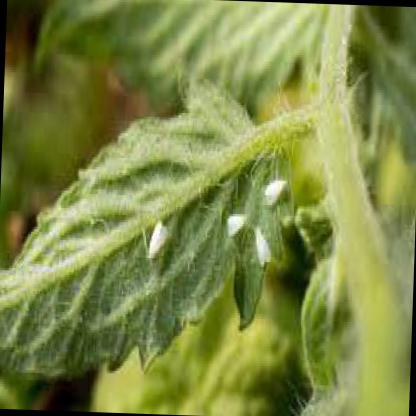whitefly: (148, 223, 168, 260), (227, 213, 248, 237)
